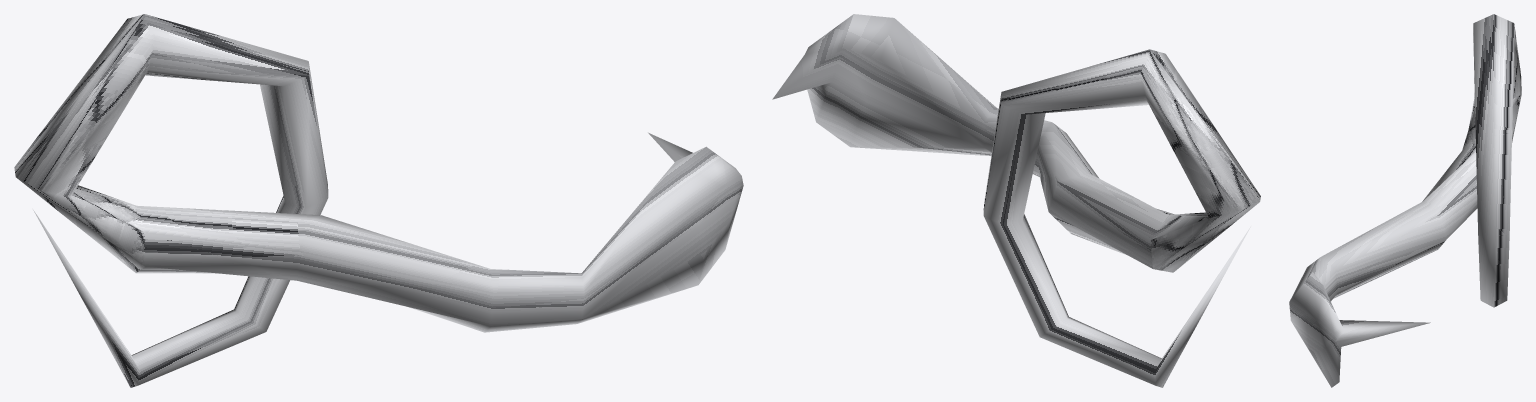
The model's file is snake_000003.obj.
3 views of the same model, side by side, from view 1: azimuth 30°, elevation 25°; view 2: azimuth 150°, elevation 25°; view 3: azimuth 270°, elevation 25° (orthographic). The views are drawn at different scales.
Parts seen in each view (by area): view 1: Cylinder; view 2: Cylinder; view 3: Cylinder.
Part boxes in pixels (x1,y1,x2,y2): Cylinder: (14, 14, 743, 387); Cylinder: (772, 14, 1260, 387); Cylinder: (1289, 14, 1521, 387).
Size of the model in its own units: 4.19 by 2.41 by 1.88.
